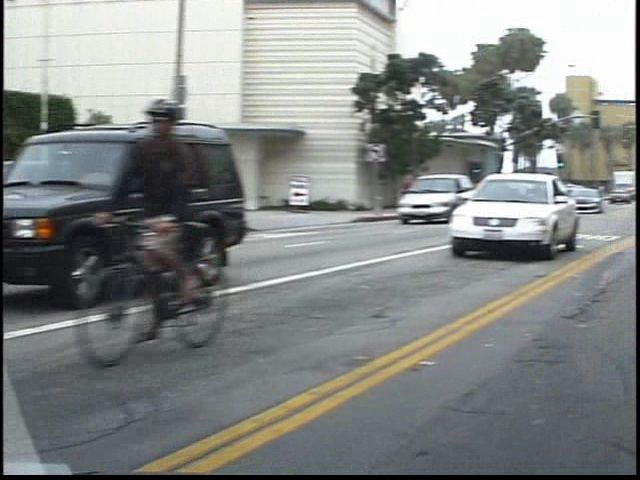person: (132, 94, 246, 344), (418, 172, 437, 211)
